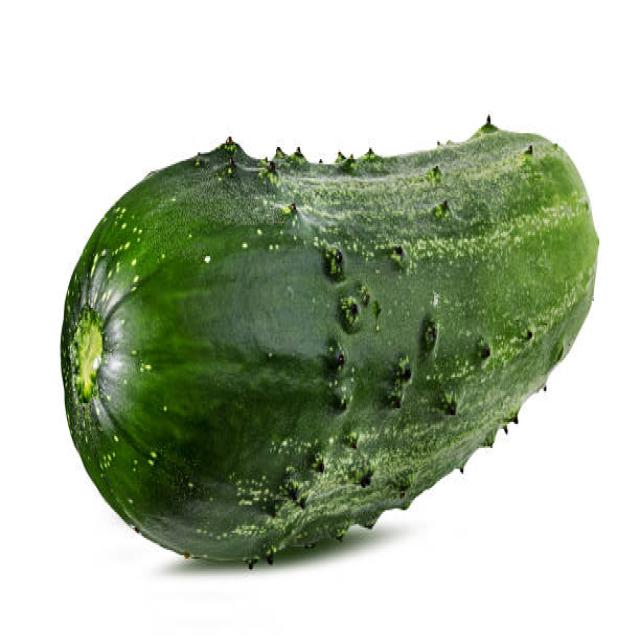cucumber: (60, 121, 598, 564)
